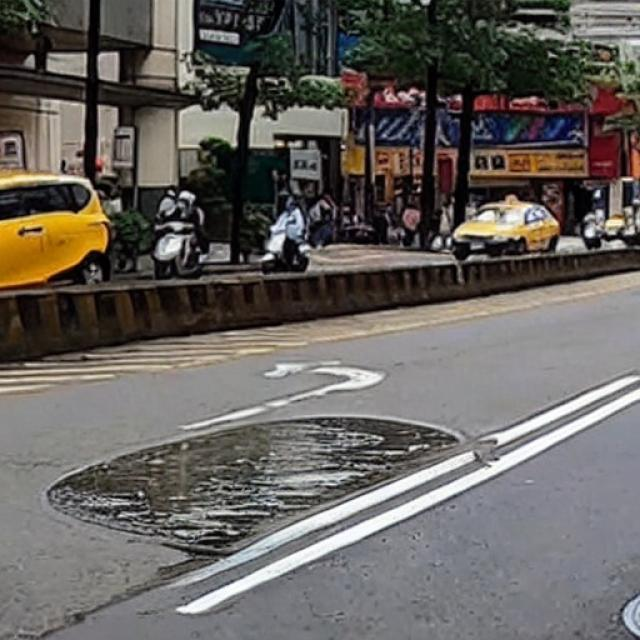puddle: (52, 417, 466, 555)
